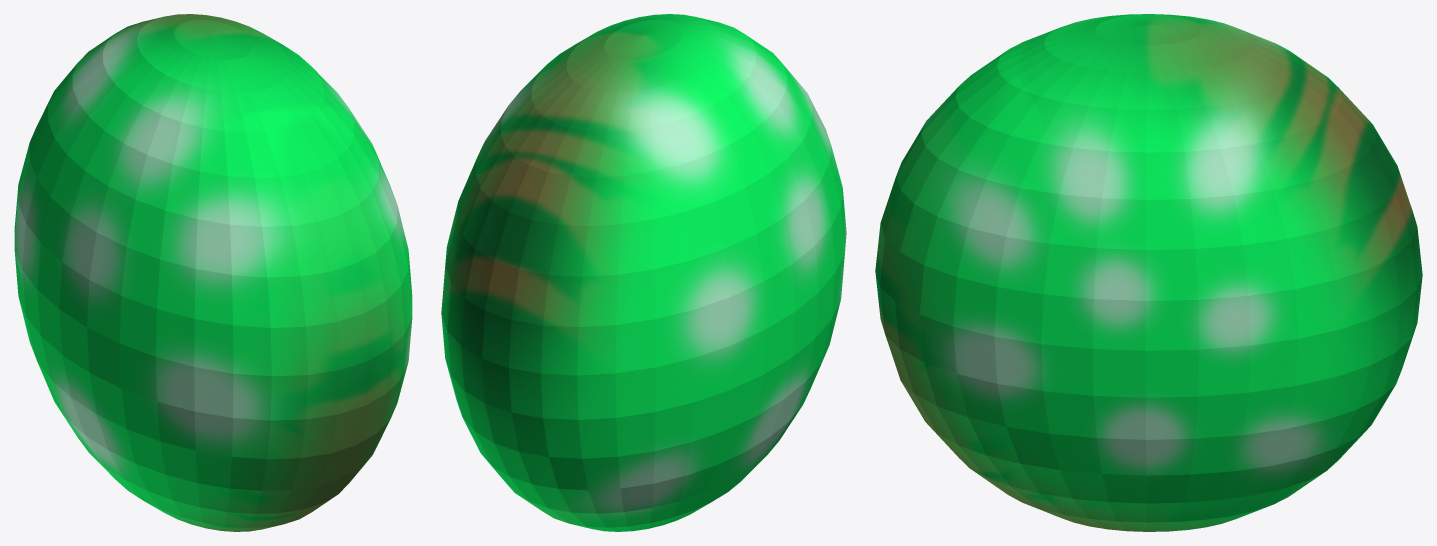
The model's file is uolola2.obj.
The picture shows the model from 3 angles, left to right: view 1: azimuth 30°, elevation 25°; view 2: azimuth 150°, elevation 25°; view 3: azimuth 270°, elevation 25°; orthographic projection. The views are drawn at different scales.
Parts seen in each view (by area): view 1: Sphere; view 2: Sphere; view 3: Sphere.
Part boxes in pixels (left/top/right/bottom): Sphere: left=14, top=14, right=412, bottom=531; Sphere: left=441, top=14, right=846, bottom=531; Sphere: left=875, top=14, right=1422, bottom=531.
Size of the model in its own units: 1.35 by 2 by 2.
1 material, 1 textured.
